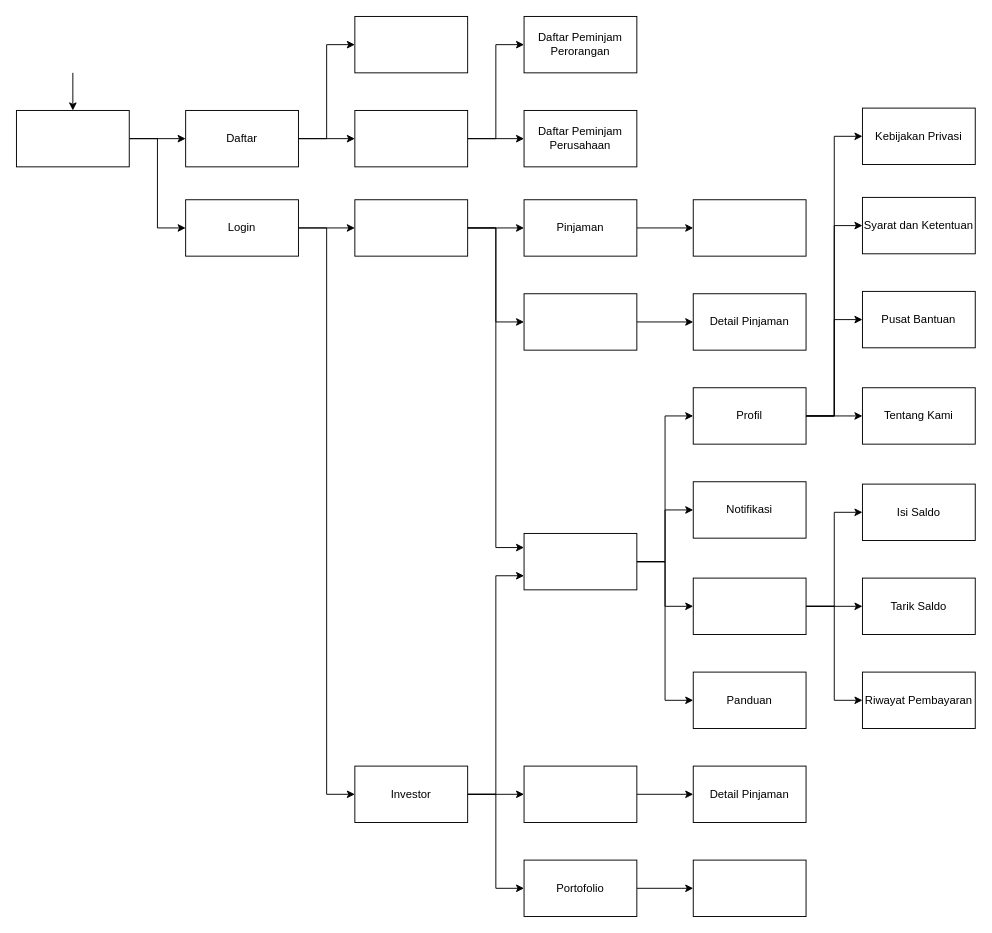
The diagram is 992 pixels wide and 933 high, and some of its shapes have lost their labels. Here are the shapes that lost their labels. From the top down, the box of each, then its label:
(354, 16, 468, 73): Daftar Investor
(16, 110, 129, 167): Halaman Awal
(354, 110, 468, 167): Daftar Peminjam
(354, 199, 468, 256): Peminjam
(692, 199, 806, 256): Form Pinjaman
(523, 293, 637, 350): Riwayat Pinjaman
(523, 533, 637, 590): Home
(692, 577, 806, 634): Saldo
(523, 765, 637, 822): Marketplace
(692, 859, 806, 916): Riwayat Pendanaan
